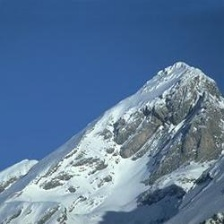neutral: (4, 3, 222, 216)
